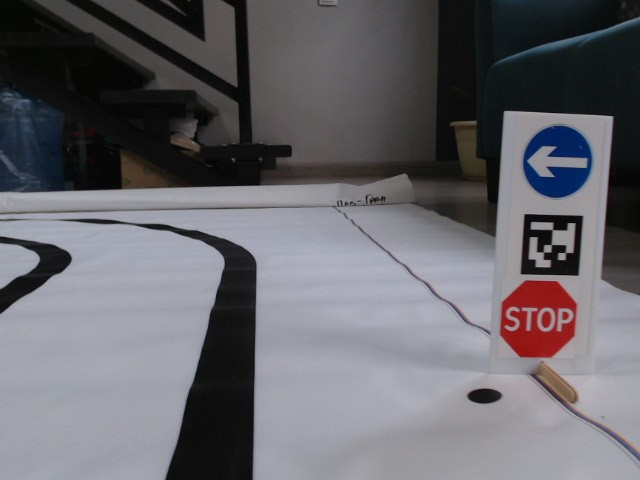Stop: (499, 278, 579, 359)
